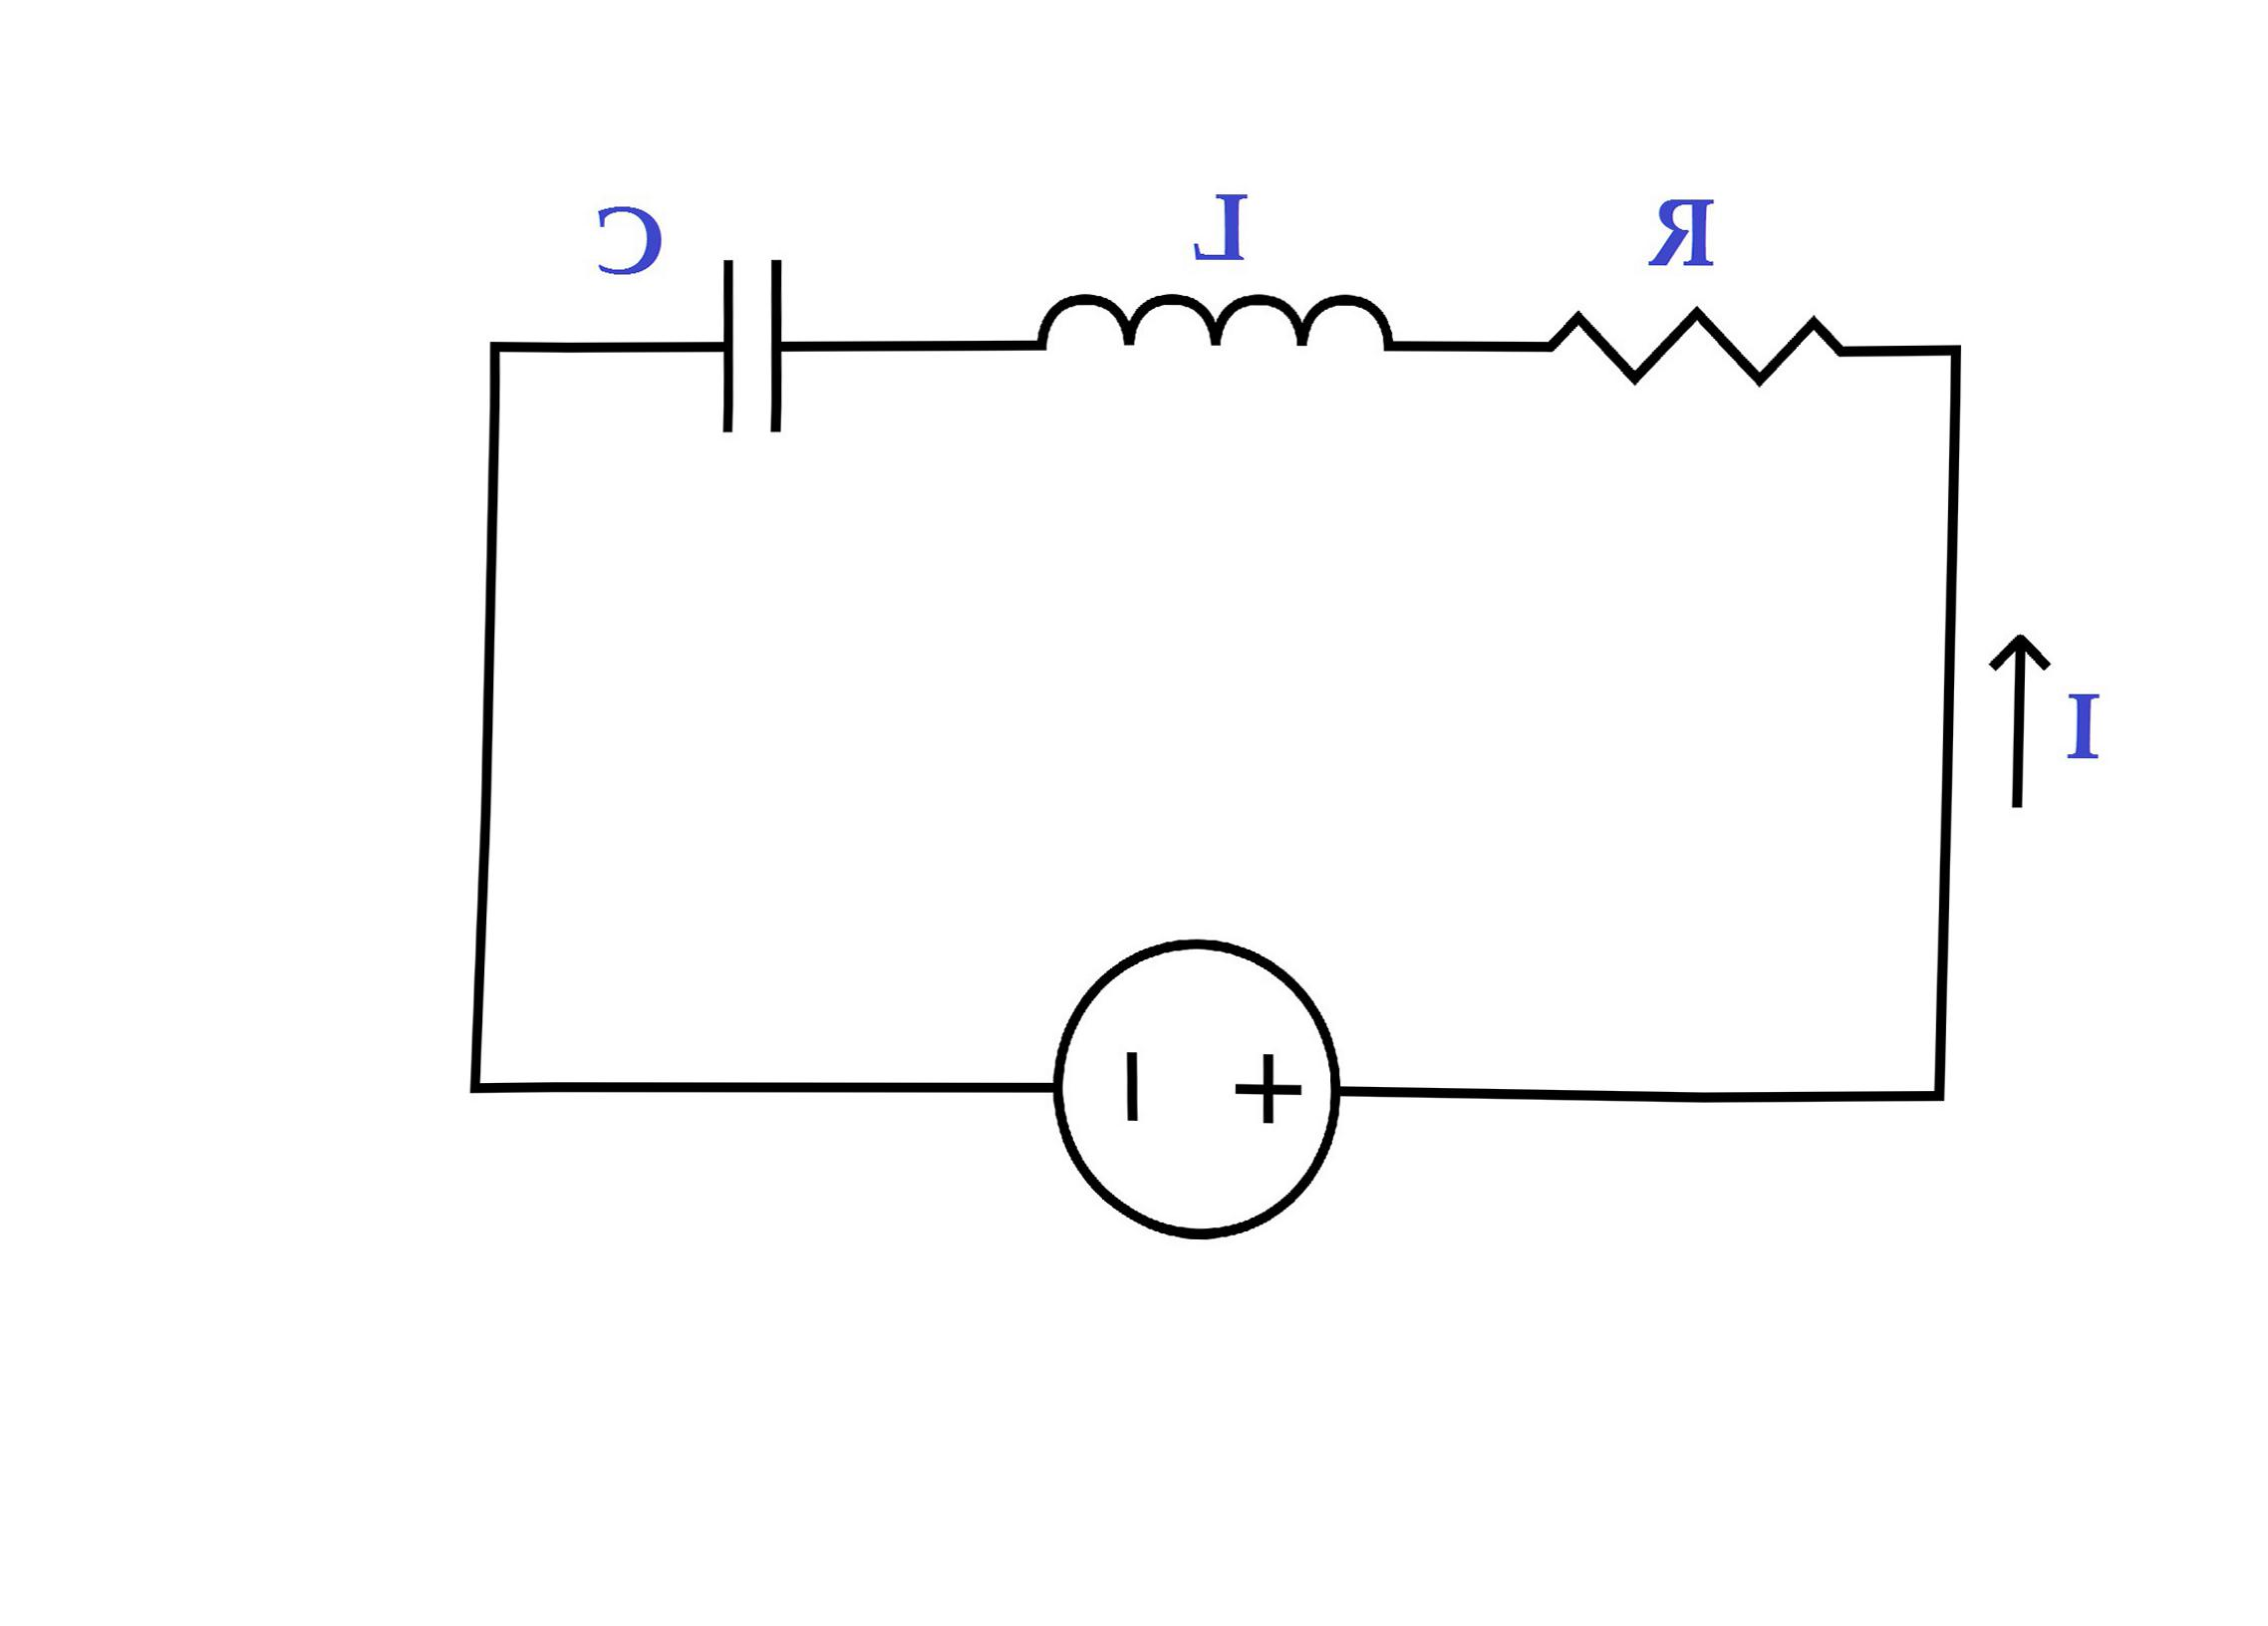Battery: (955, 883, 1402, 1295)
